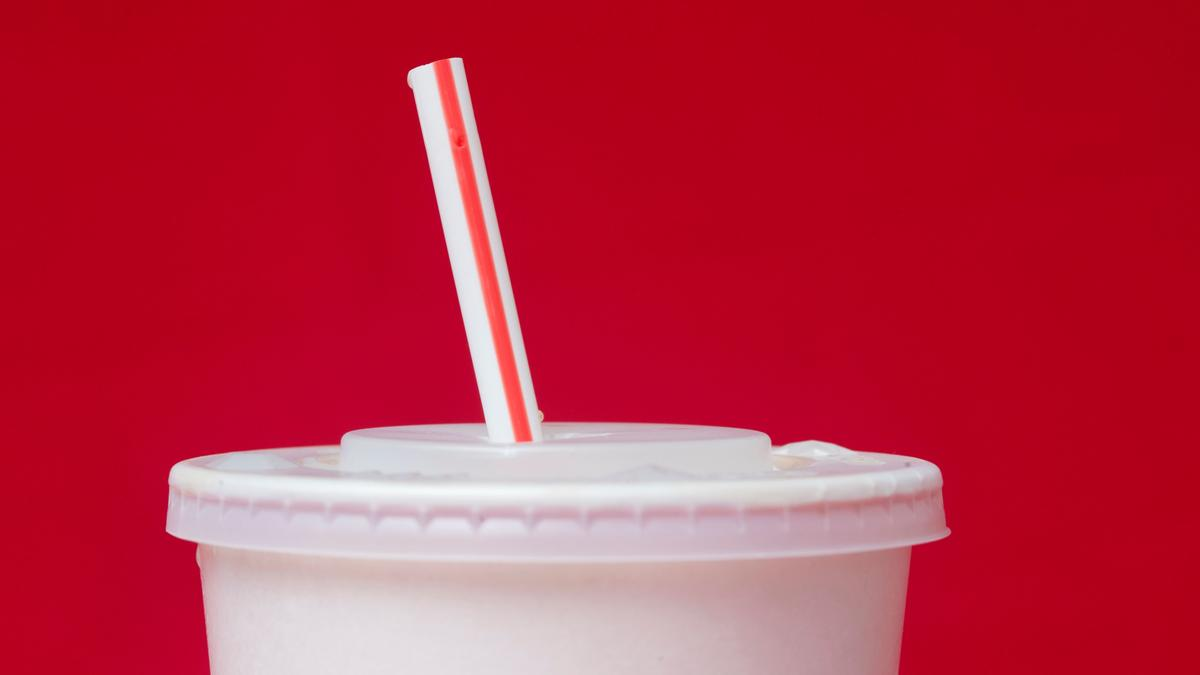Drinking Straw: (406, 53, 558, 449)
